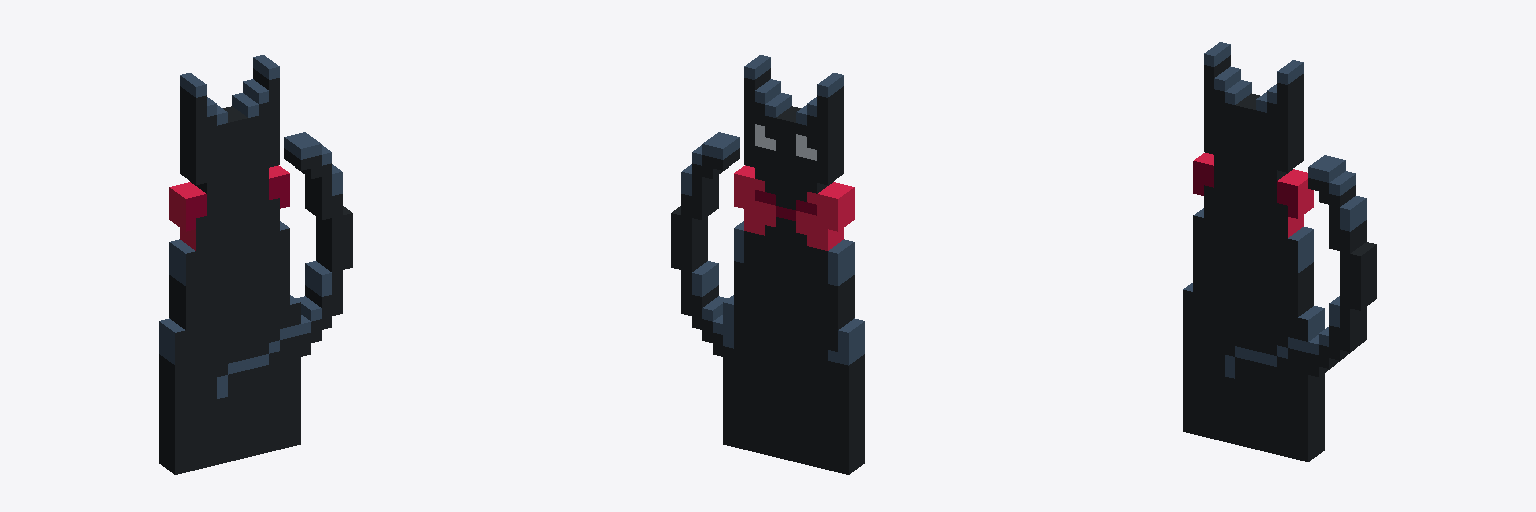
Rendered from CatStatue.obj.
3 views of the same model, side by side, from view 1: azimuth 30°, elevation 25°; view 2: azimuth 150°, elevation 25°; view 3: azimuth 330°, elevation 25° (orthographic).
Size of the model in its own units: 17 by 35 by 2.7.